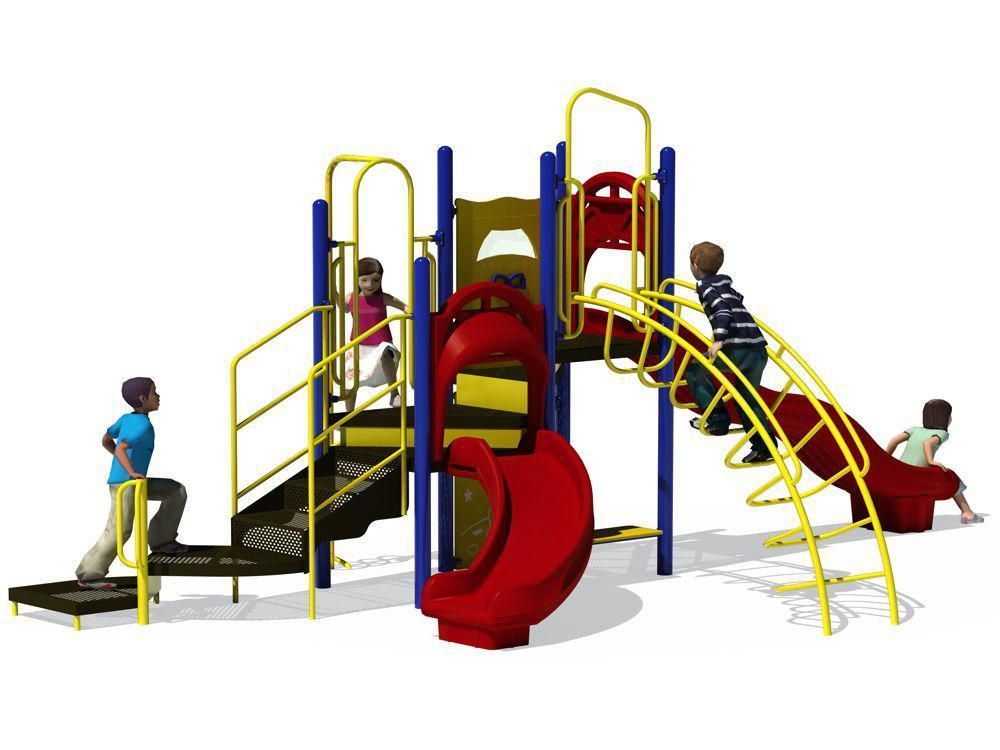person: (68, 361, 209, 587), (671, 233, 776, 466), (319, 244, 415, 409), (879, 384, 981, 524)
